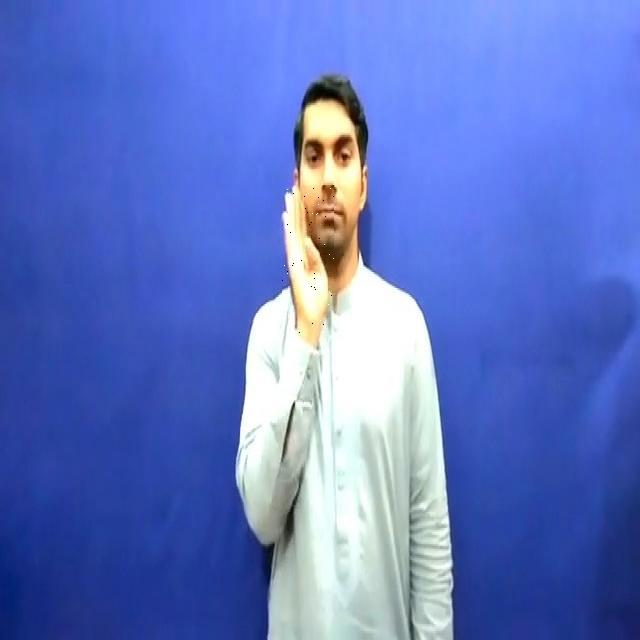napkin: (282, 185, 334, 334)
